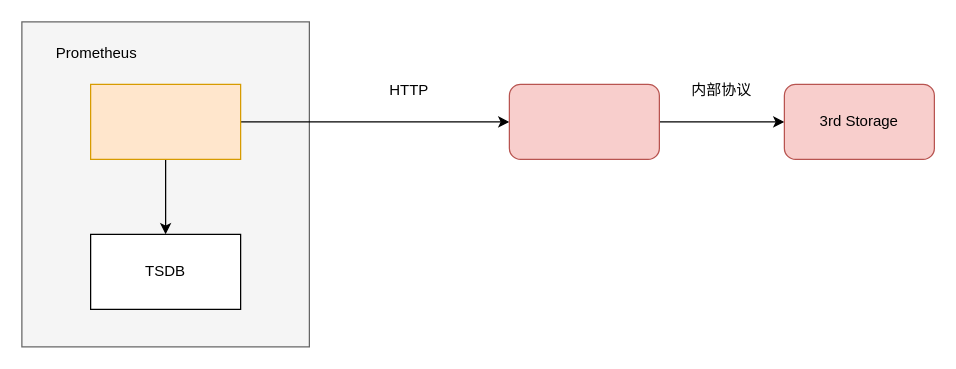
The diagram is 956 pixels wide and 369 high, and some of its shapes have lost their labels. Each missing label, with the centre of its shape:
Adapter: (x=583, y=121)
存储模块: (x=165, y=121)
